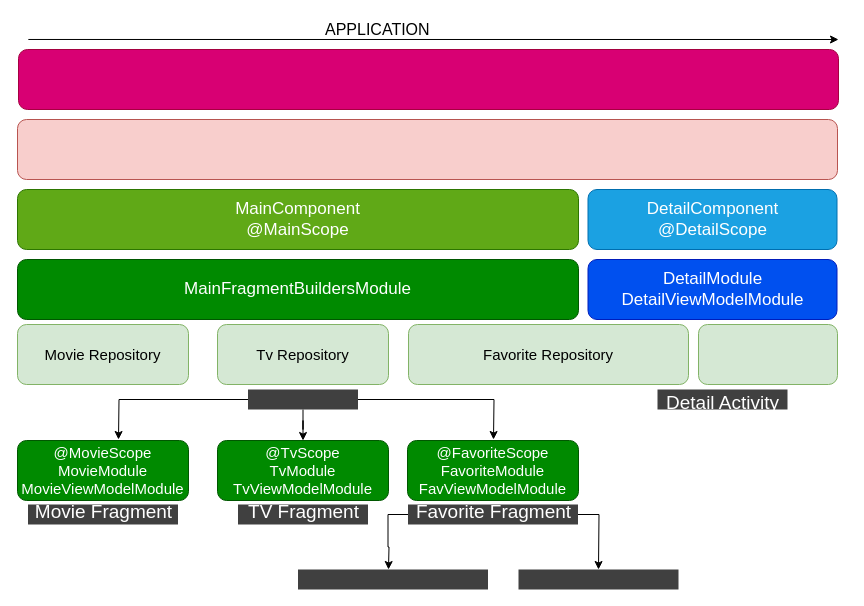
Image size: 864x606. Some labels were removed from this diagram. The shapes that lost their labels are listed below. From the top down, each one's centre as x and y in pixels, then its label:
(x=428, y=79): App Component @Singleton
(x=427, y=149): ActivityBuildersModule / AppModule / ViewModelFactoryModule
(x=768, y=354): Detail Repository
(x=303, y=399): Main Activity
(x=393, y=579): Fav Movie Fragment
(x=598, y=579): Fav Tv Fragment
